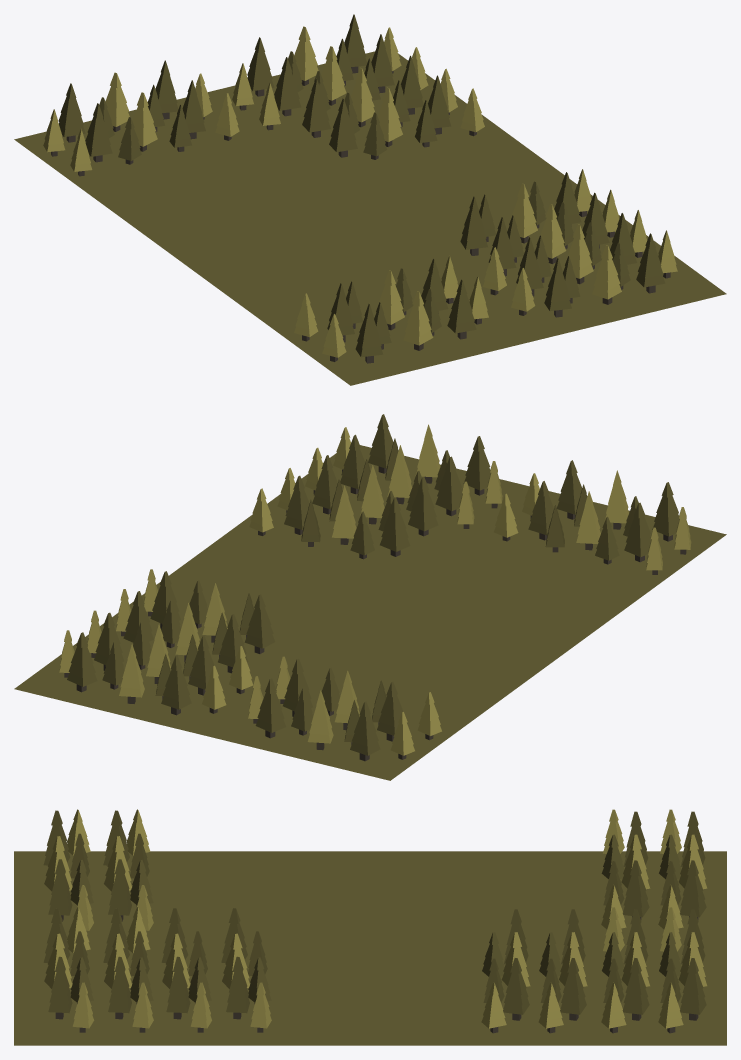
File: mapa.fbx
3 renders of one model, top to bottom at view 1: azimuth 30°, elevation 25°; view 2: azimuth 150°, elevation 25°; view 3: azimuth 270°, elevation 25°, orthographic. The views are drawn at different scales.
Visible parts, largest first — view 1: Grama, Grama.001, Árvore Folhas.008, Árvore Folhas.022, Árvore Folhas.021, Árvore Folhas.007, Árvore Folhas.056, Árvore Folhas.062, Árvore Folhas.035, Árvore Folhas.028, Árvore Folhas, Árvore Folhas.009 (+34 smaller); view 2: Grama, Grama.001, Árvore Folhas.002, Árvore Folhas.016, Árvore Folhas.076, Árvore Folhas.062, Árvore Folhas.070, Árvore Folhas, Árvore Folhas.014, Árvore Folhas.051, Árvore Folhas.044, Árvore Folhas.023 (+36 smaller); view 3: Grama, Grama.001, Árvore Folhas.016, Árvore Folhas.037, Árvore Folhas.064, Árvore Folhas.058, Árvore Folhas.030, Árvore Folhas.002, Árvore Folhas.068, Árvore Folhas.021, Árvore Folhas.049, Árvore Folhas.074 (+70 smaller).
Boxes of the visible parts, x1=… form: Grama: x1=14, y1=97, x2=537, y2=385; Grama.001: x1=207, y1=51, x2=726, y2=339; Árvore Folhas.008: x1=403, y1=291, x2=433, y2=345; Árvore Folhas.022: x1=592, y1=245, x2=621, y2=299; Árvore Folhas.021: x1=636, y1=233, x2=665, y2=287; Árvore Folhas.007: x1=447, y1=279, x2=476, y2=333; Árvore Folhas.056: x1=302, y1=78, x2=330, y2=132; Árvore Folhas.062: x1=329, y1=98, x2=357, y2=152; Árvore Folhas.035: x1=274, y1=57, x2=301, y2=110; Árvore Folhas.028: x1=85, y1=103, x2=112, y2=156; Árvore Folhas: x1=58, y1=83, x2=85, y2=137; Árvore Folhas.009: x1=355, y1=304, x2=383, y2=357; Grama: x1=203, y1=491, x2=726, y2=780; Grama.001: x1=14, y1=445, x2=529, y2=734; Árvore Folhas.002: x1=255, y1=678, x2=285, y2=732; Árvore Folhas.016: x1=67, y1=632, x2=97, y2=686; Árvore Folhas.076: x1=380, y1=497, x2=410, y2=551; Árvore Folhas.062: x1=244, y1=594, x2=274, y2=648; Árvore Folhas.070: x1=408, y1=477, x2=438, y2=531; Árvore Folhas: x1=350, y1=701, x2=380, y2=755; Árvore Folhas.014: x1=161, y1=655, x2=191, y2=709; Árvore Folhas.051: x1=435, y1=456, x2=462, y2=510; Árvore Folhas.044: x1=624, y1=502, x2=651, y2=557; Árvore Folhas.023: x1=463, y1=436, x2=490, y2=490; Grama: x1=14, y1=851, x2=726, y2=947; Grama.001: x1=14, y1=948, x2=726, y2=1045; Árvore Folhas.016: x1=680, y1=958, x2=706, y2=1014; Árvore Folhas.037: x1=622, y1=957, x2=649, y2=1014; Árvore Folhas.064: x1=503, y1=958, x2=529, y2=1014; Árvore Folhas.058: x1=560, y1=958, x2=586, y2=1014; Árvore Folhas.030: x1=622, y1=860, x2=649, y2=917; Árvore Folhas.002: x1=680, y1=860, x2=706, y2=917; Árvore Folhas.068: x1=166, y1=956, x2=190, y2=1013; Árvore Folhas.021: x1=48, y1=956, x2=72, y2=1013; Árvore Folhas.049: x1=108, y1=956, x2=131, y2=1013; Árvore Folhas.074: x1=226, y1=956, x2=249, y2=1013.
Size of the model in its own units: 10328 by 1544 by 16000.
